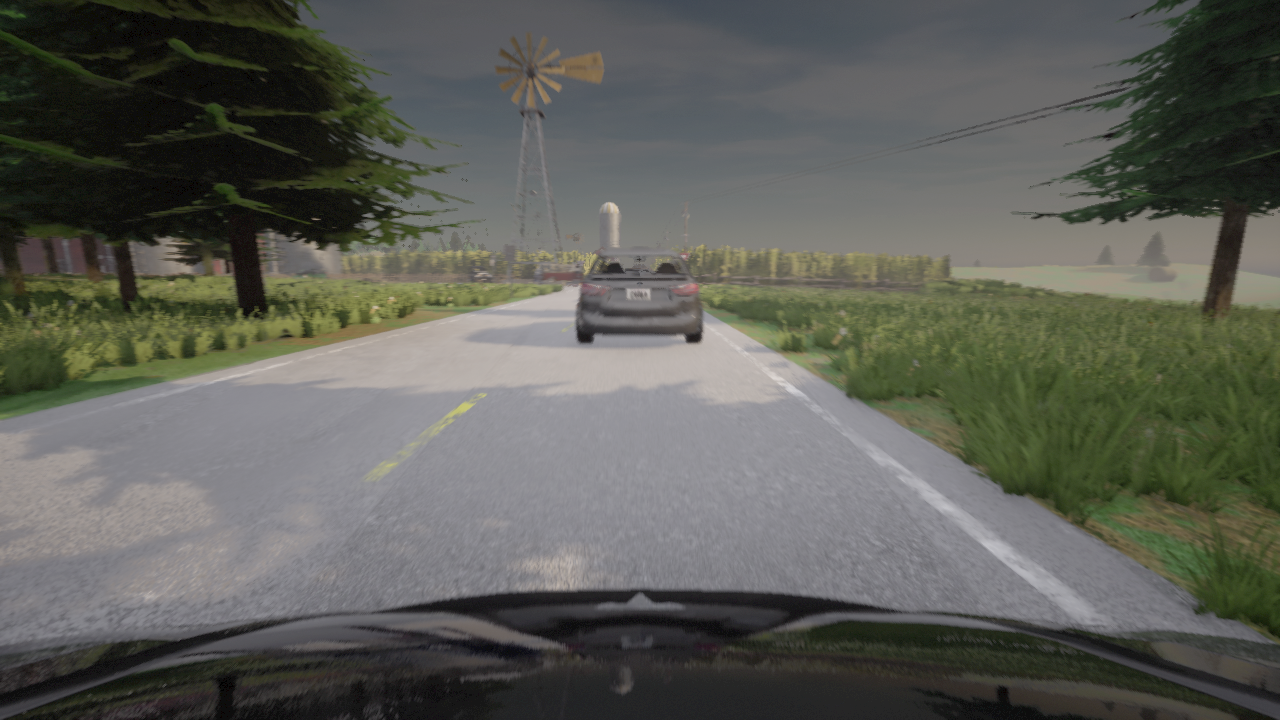cyclist: (0, 588, 1279, 719), (576, 247, 702, 342), (534, 263, 582, 285), (291, 268, 328, 279), (468, 266, 491, 282)
